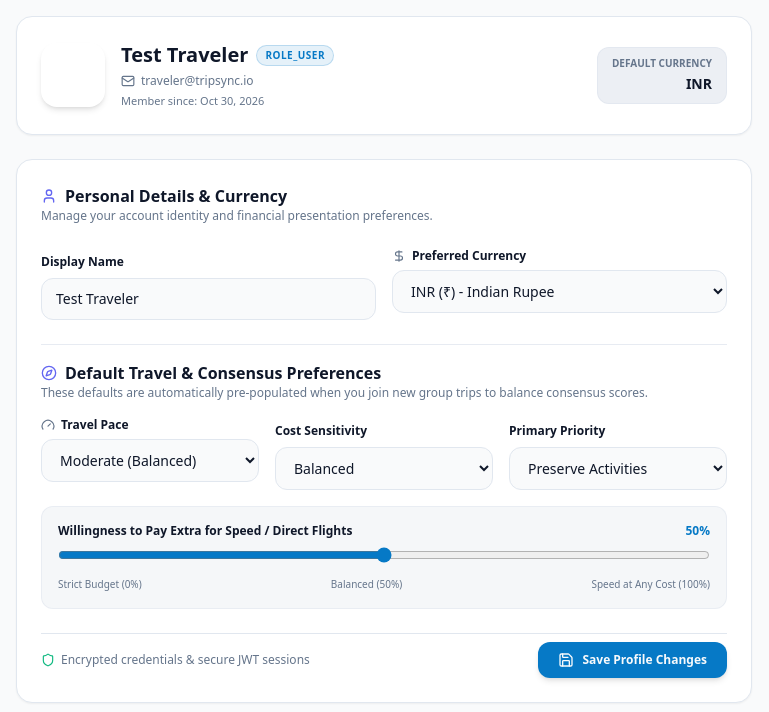
it: TripSync 2.1 — Authentication & User Onboarding Frontend Suite › User Profile Editing › renders profile summary and enables preference updates
Expected: the heading "Test Traveler" is shown, [121, 41, 248, 69]
Expected: the text "traveler@tripsync.io" is shown, [121, 72, 254, 89]
Note: Change currency to USD
Select "USD ($) - US Dollar" in the dropdown labelled "Preferred Currency" at (560, 291), box [392, 270, 727, 312]
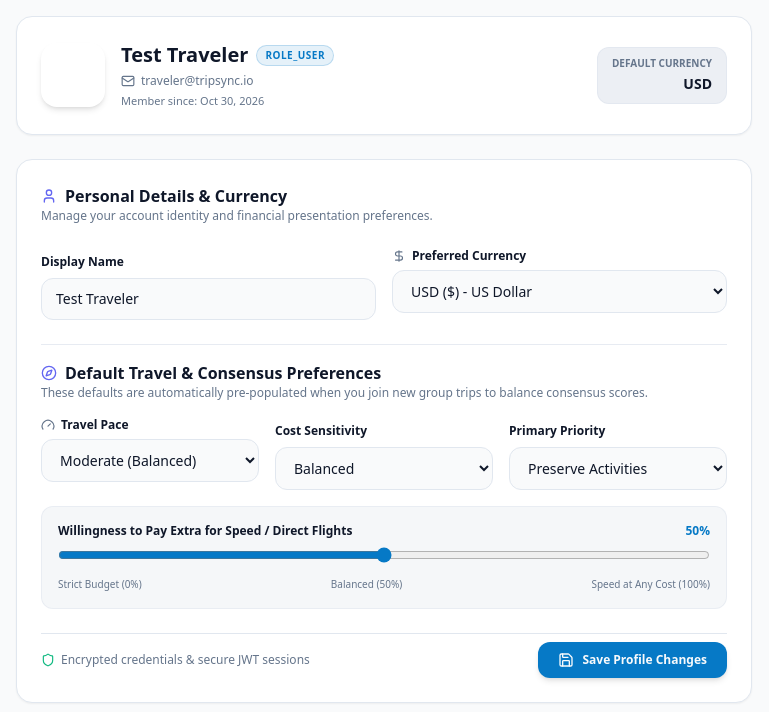
Submit the form named "Preferred Currency"
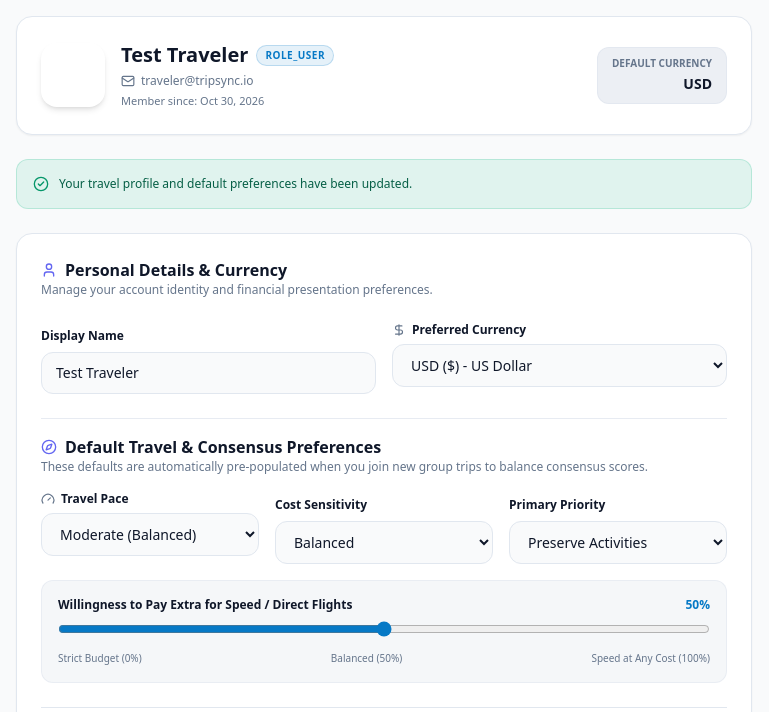
Expected: the text "Your travel profile and default preferences have been updated" is shown, [59, 174, 412, 192]
